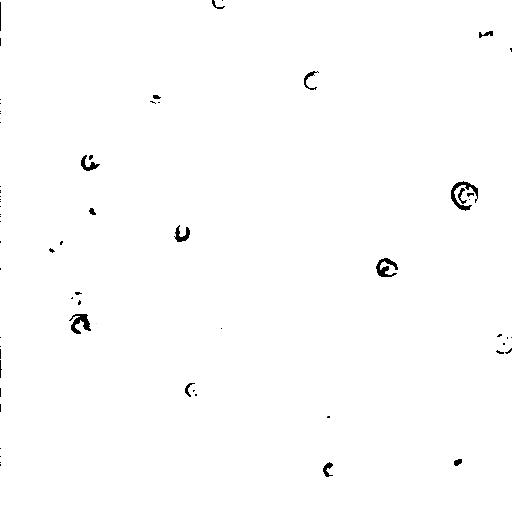micro-algae: (221, 227, 256, 260), (40, 224, 71, 260), (79, 312, 111, 343), (469, 17, 502, 46), (451, 179, 481, 209), (81, 194, 111, 219), (441, 449, 469, 475), (65, 311, 90, 333), (1, 0, 17, 34), (373, 256, 398, 277), (79, 150, 101, 173), (491, 329, 512, 353), (302, 67, 324, 89), (171, 221, 191, 244), (69, 288, 88, 305), (185, 381, 205, 397), (321, 461, 337, 477), (308, 0, 339, 8), (210, 1, 231, 9)
